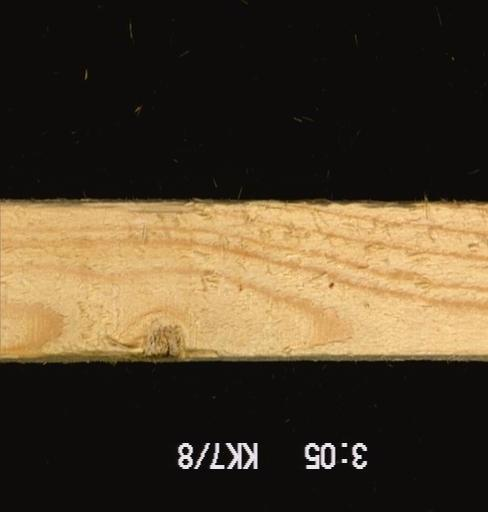edge_knot: (122, 306, 182, 360)
wave: (85, 197, 243, 220)
